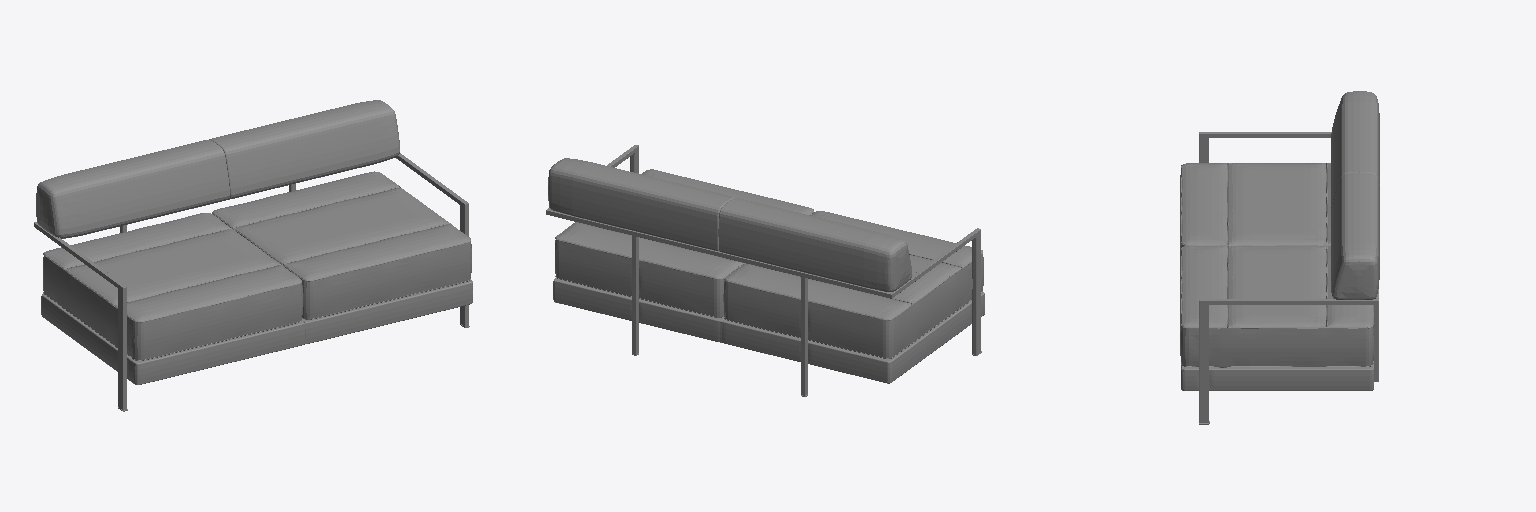
The picture shows the model from 3 angles: view 1: azimuth 30°, elevation 25°; view 2: azimuth 150°, elevation 25°; view 3: azimuth 270°, elevation 25°; orthographic projection.
Visible parts, largest first — view 1: Archmodels_112_098_003, Archmodels_112_098_005; view 2: Archmodels_112_098_003, Archmodels_112_098_005; view 3: Archmodels_112_098_003, Archmodels_112_098_005.
Boxes of the visible parts, x1,y1,x2,y2 form: Archmodels_112_098_003: [36, 100, 472, 384]; Archmodels_112_098_005: [34, 153, 469, 411]; Archmodels_112_098_003: [548, 158, 984, 383]; Archmodels_112_098_005: [546, 145, 981, 396]; Archmodels_112_098_003: [1180, 91, 1379, 390]; Archmodels_112_098_005: [1199, 132, 1378, 424].
Size of the model in its own units: 165 by 76 by 82.